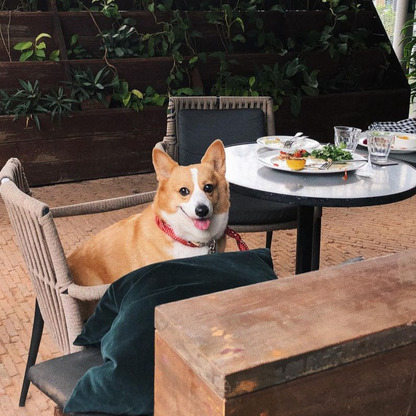Corgi: (58, 145, 256, 294)
